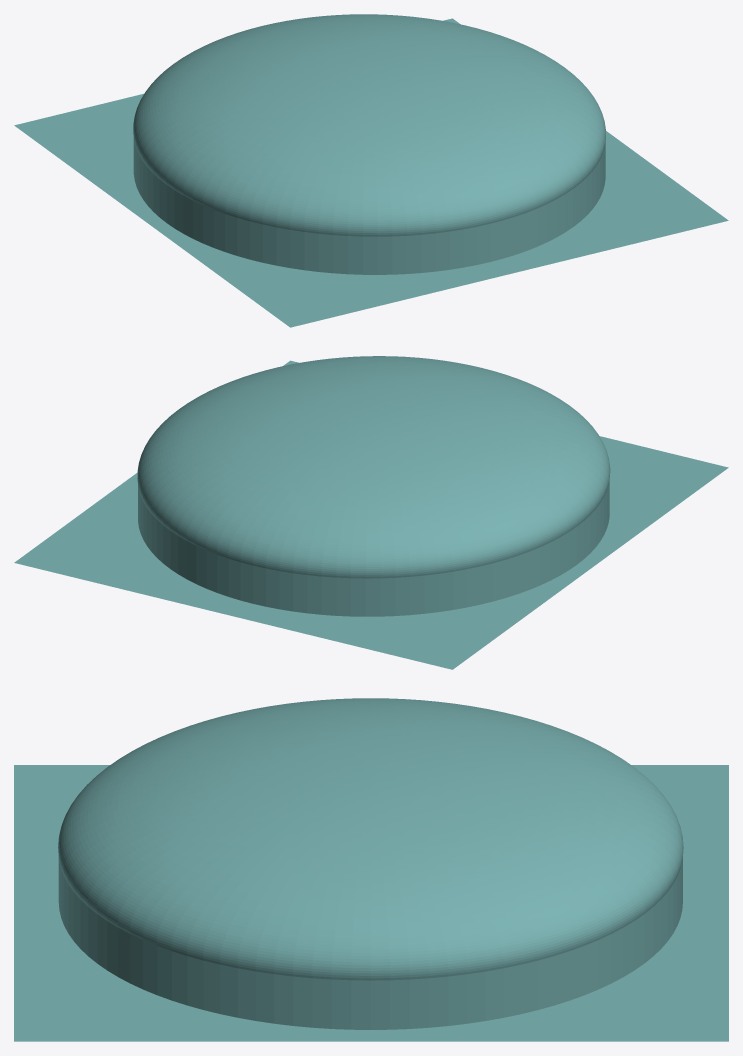
File: salleCylindre.fbx
The picture shows the model from 3 angles, top to bottom: view 1: azimuth 30°, elevation 25°; view 2: azimuth 150°, elevation 25°; view 3: azimuth 270°, elevation 25°; orthographic projection. The views are drawn at different scales.
Visible parts, largest first — view 1: Plane; view 2: Plane; view 3: Plane.
Boxes of the visible parts, x1=… form: Plane: x1=14, y1=14, x2=728, y2=327; Plane: x1=14, y1=356, x2=728, y2=669; Plane: x1=14, y1=698, x2=728, y2=1041.
Size of the model in its own units: 7736 by 1724 by 8442.
